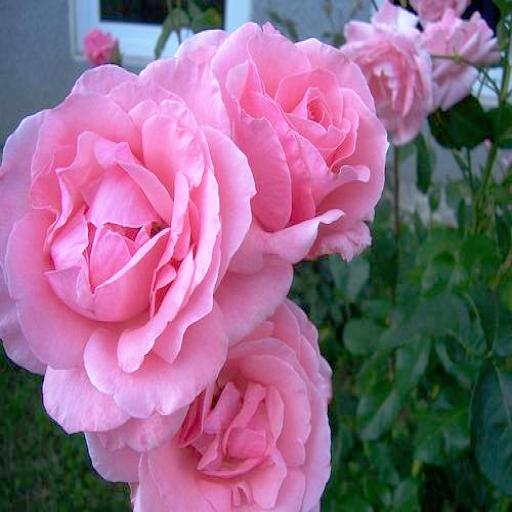rose: (1, 62, 258, 415), (211, 16, 393, 256), (134, 292, 332, 512)
